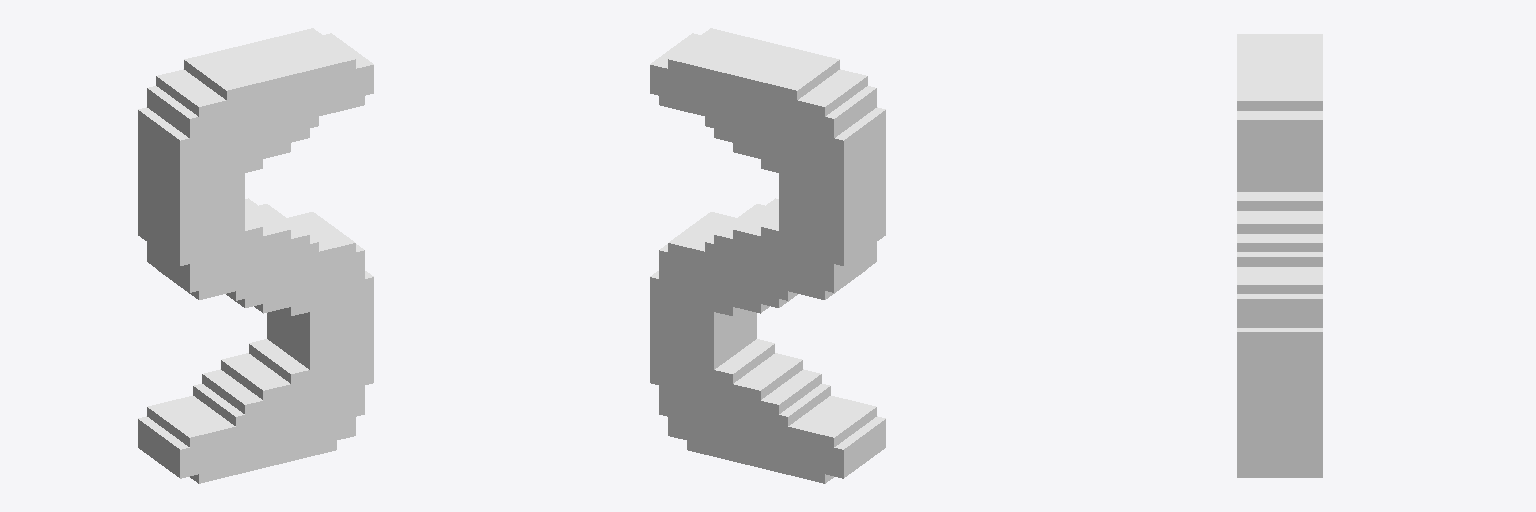
Rendered from LetterS.obj.
The picture shows the model from 3 angles: view 1: azimuth 30°, elevation 25°; view 2: azimuth 150°, elevation 25°; view 3: azimuth 270°, elevation 25°; orthographic projection.
Parts seen in each view (by area): view 1: object 1; view 2: object 1; view 3: object 1.
Boxes of the visible parts, x1=… form: object 1: x1=138, y1=28, x2=373, y2=483; object 1: x1=650, y1=28, x2=885, y2=483; object 1: x1=1237, y1=34, x2=1322, y2=477.
Bounding box in the file's own units: 2.1 × 4 × 0.8.